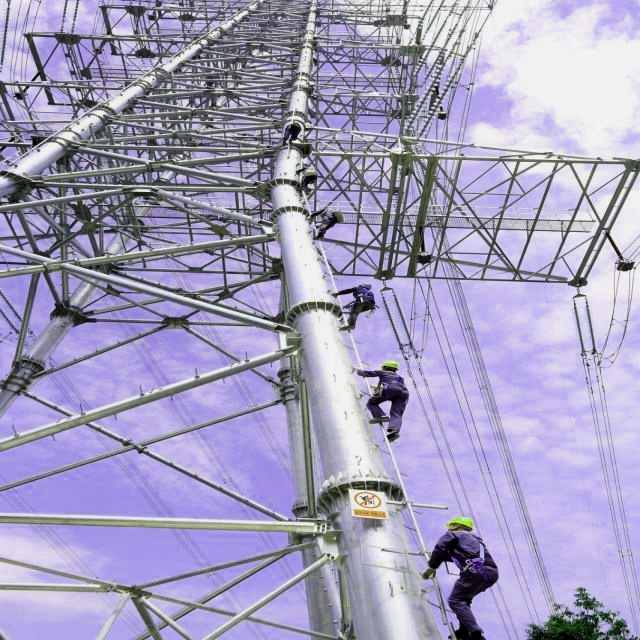Con_Casco: (446, 517, 476, 531), (381, 360, 400, 371)
